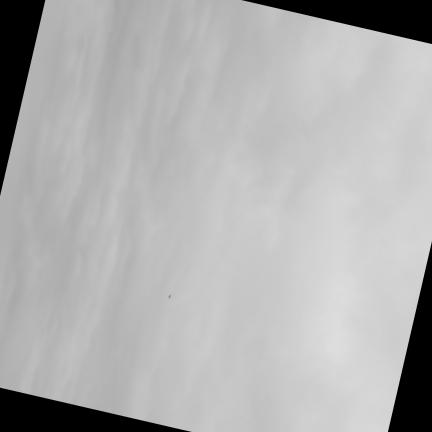Shahed: (167, 294, 171, 299)
